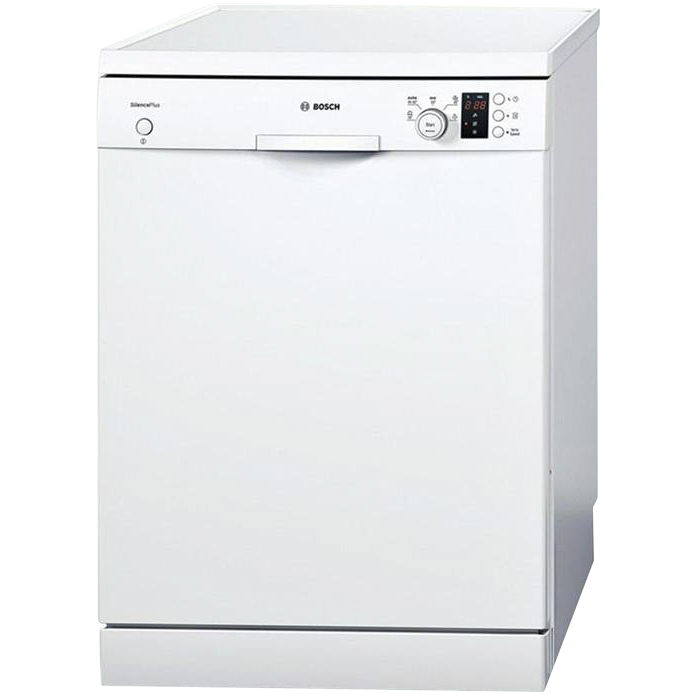Bosch: (311, 99, 345, 115)
